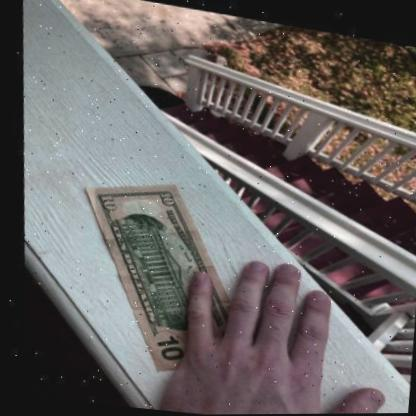dollar_back: (82, 182, 246, 369)
